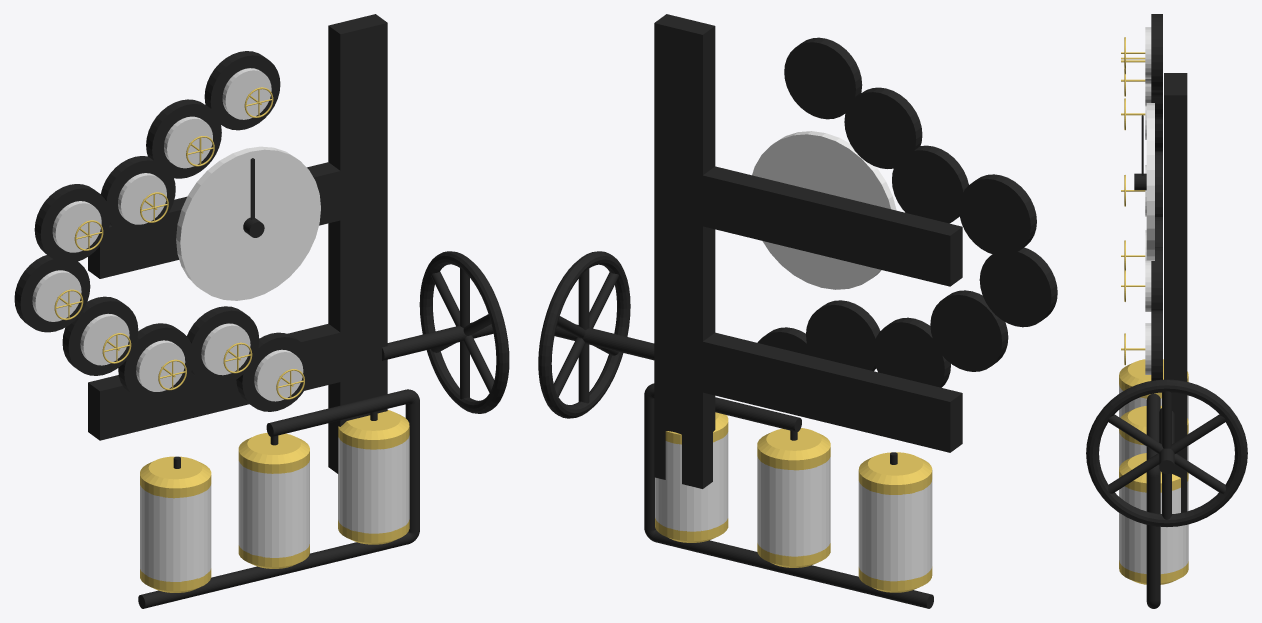
File: aha2.glb
The picture shows the model from 3 angles, left to right: view 1: azimuth 30°, elevation 25°; view 2: azimuth 150°, elevation 25°; view 3: azimuth 270°, elevation 25°; orthographic projection. The views are drawn at different scales.
Parts seen in each view (by area): view 1: Cube.002, Cylinder.007, Cube, Torus.002, Cylinder.006, Cube.001, Cylinder.009, Cylinder.002, Cylinder.012, Cylinder.029, Cylinder.038, Cylinder.035 (+21 smaller); view 2: Cube.002, Cube, Cube.001, Cylinder.007, Torus.002, Cylinder.012, Cylinder.009, Cylinder.006, Cylinder.029, Cylinder.038, Cylinder.026, Cylinder.035 (+11 smaller); view 3: Torus.002, Cube.002, Cylinder.002, Cylinder.006, Cylinder.007, Cylinder.038, Cylinder.004, Cylinder.003, Cylinder.013, Cylinder.017, Cylinder.010, Cylinder.005 (+9 smaller).
Boxes of the visible parts, box(x1,y1,x2,y2) form: Cube.002: box(328, 14, 387, 473); Cylinder.007: box(176, 146, 320, 300); Cube: box(88, 323, 378, 440); Torus.002: box(382, 251, 509, 413); Cylinder.006: box(138, 389, 419, 608); Cube.001: box(88, 161, 378, 278); Cylinder.009: box(238, 460, 309, 557); Cylinder.002: box(338, 435, 409, 533); Cylinder.012: box(140, 484, 211, 581); Cylinder.029: box(34, 184, 110, 263); Cylinder.038: box(204, 51, 280, 130); Cylinder.035: box(146, 99, 221, 178); Cube.002: box(654, 14, 715, 488); Cube: box(675, 332, 962, 452); Cube.001: box(703, 166, 962, 286); Cylinder.007: box(752, 131, 896, 289); Torus.002: box(538, 251, 654, 418); Cylinder.012: box(858, 480, 932, 581); Cylinder.009: box(757, 456, 830, 556); Cylinder.006: box(644, 383, 933, 608); Cylinder.029: box(959, 174, 1036, 255); Cylinder.038: box(784, 37, 862, 119); Cylinder.026: box(979, 247, 1057, 327); Cylinder.035: box(844, 87, 922, 168); Torus.002: box(1086, 379, 1247, 526); Cube.002: box(1164, 73, 1187, 512); Cylinder.002: box(1119, 479, 1188, 573); Cylinder.006: box(1146, 393, 1160, 608); Cylinder.007: box(1146, 103, 1154, 260); Cylinder.038: box(1151, 14, 1162, 92); Cylinder.004: box(1151, 310, 1162, 380); Cylinder.003: box(1119, 453, 1188, 492); Cylinder.013: box(1119, 359, 1188, 398); Cylinder.017: box(1151, 247, 1162, 310); Cylinder.010: box(1119, 406, 1188, 445); Cylinder.005: box(1119, 560, 1188, 584).
Size of the model in its own units: 41.85 by 43.86 by 12.54.
